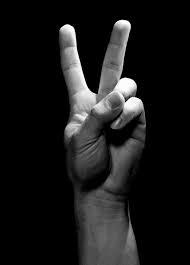peace_sign: (51, 14, 153, 210)
